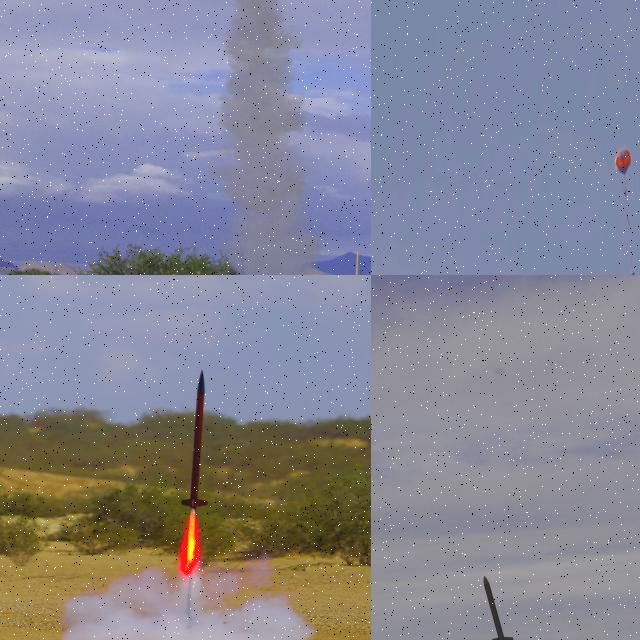Rocket: (179, 368, 210, 510), (482, 575, 514, 640)
